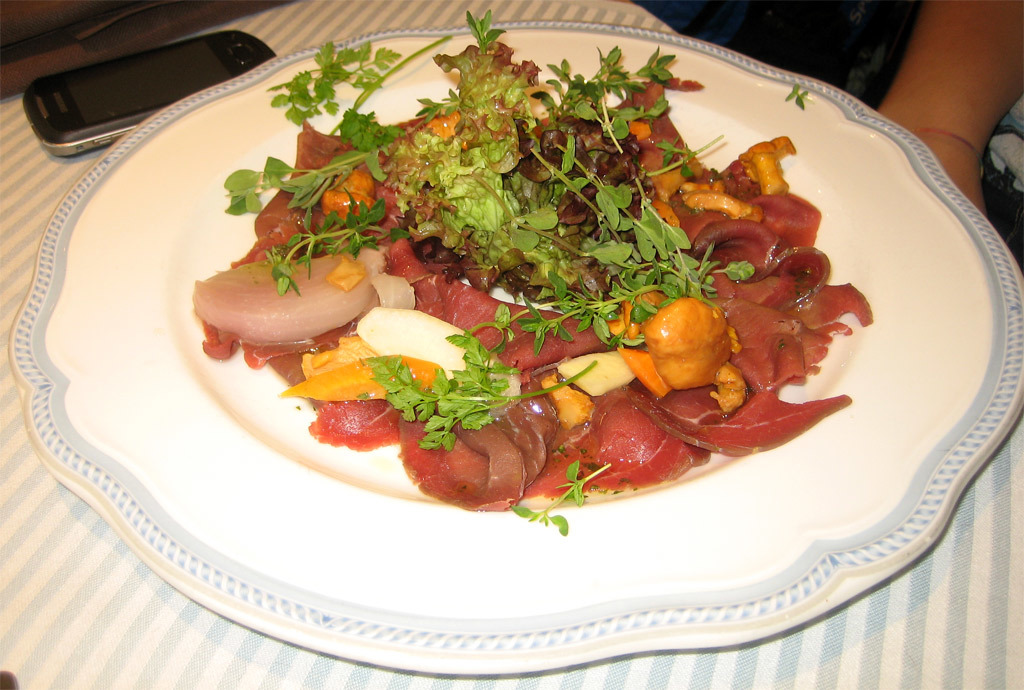salad: (184, 4, 872, 531)
